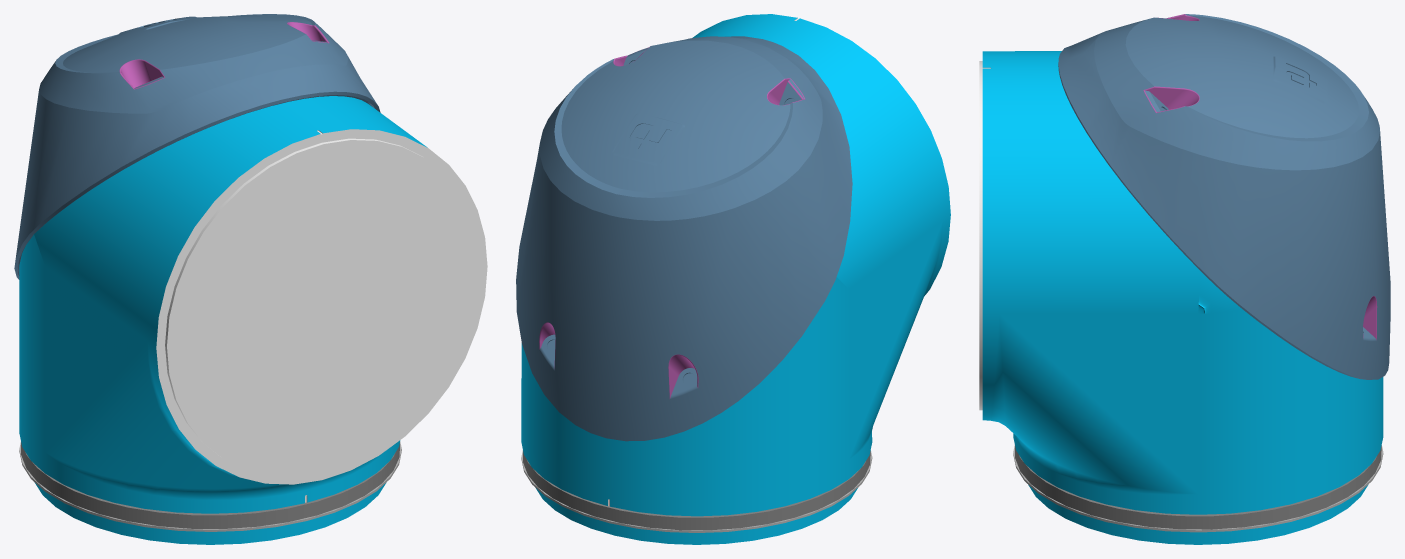
3 views of the same model, side by side, from view 1: azimuth 30°, elevation 25°; view 2: azimuth 150°, elevation 25°; view 3: azimuth 270°, elevation 25° (orthographic). The views are drawn at different scales.
Parts seen in each view (by area): view 1: link1; view 2: link1; view 3: link1.
Boxes of the visible parts, x1,y1,x2,y2 form: link1: (14, 14, 487, 544); link1: (516, 14, 950, 544); link1: (979, 14, 1390, 544).
Bounding box in the file's own units: 0.1531 × 0.1691 × 0.1942.
